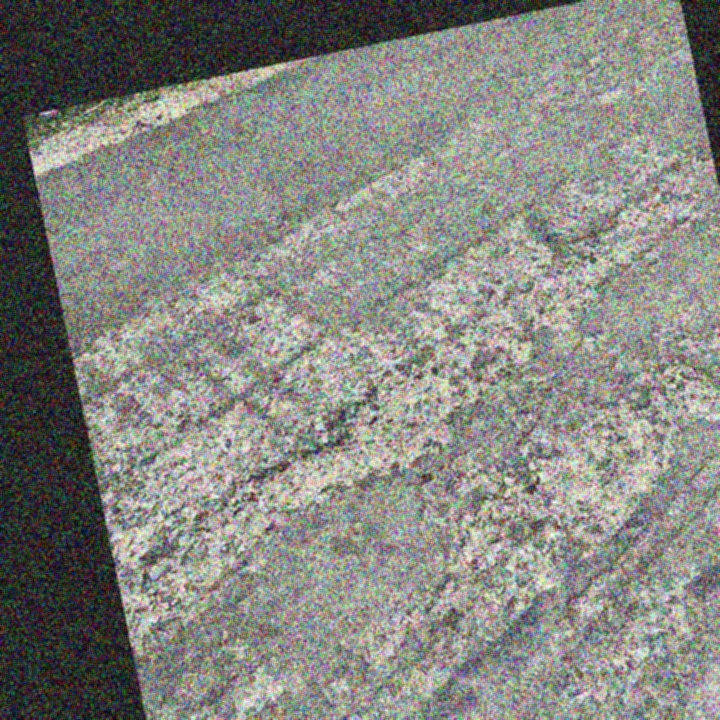pothole: (231, 358, 476, 527), (500, 198, 667, 335), (650, 349, 720, 427)
